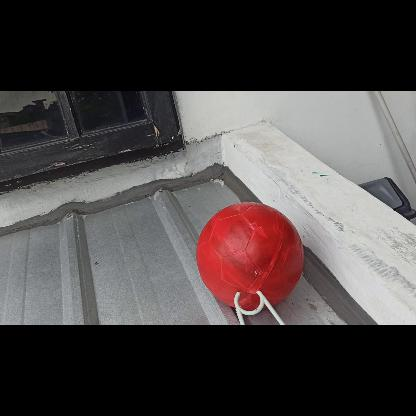red_ball: (196, 203, 304, 310)
